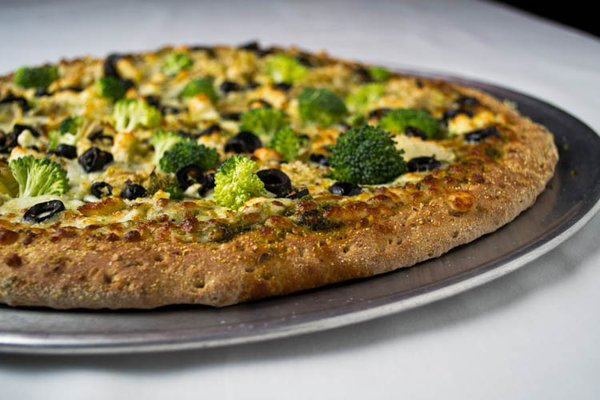curry: (324, 122, 408, 187), (210, 153, 269, 209), (294, 85, 350, 131)
